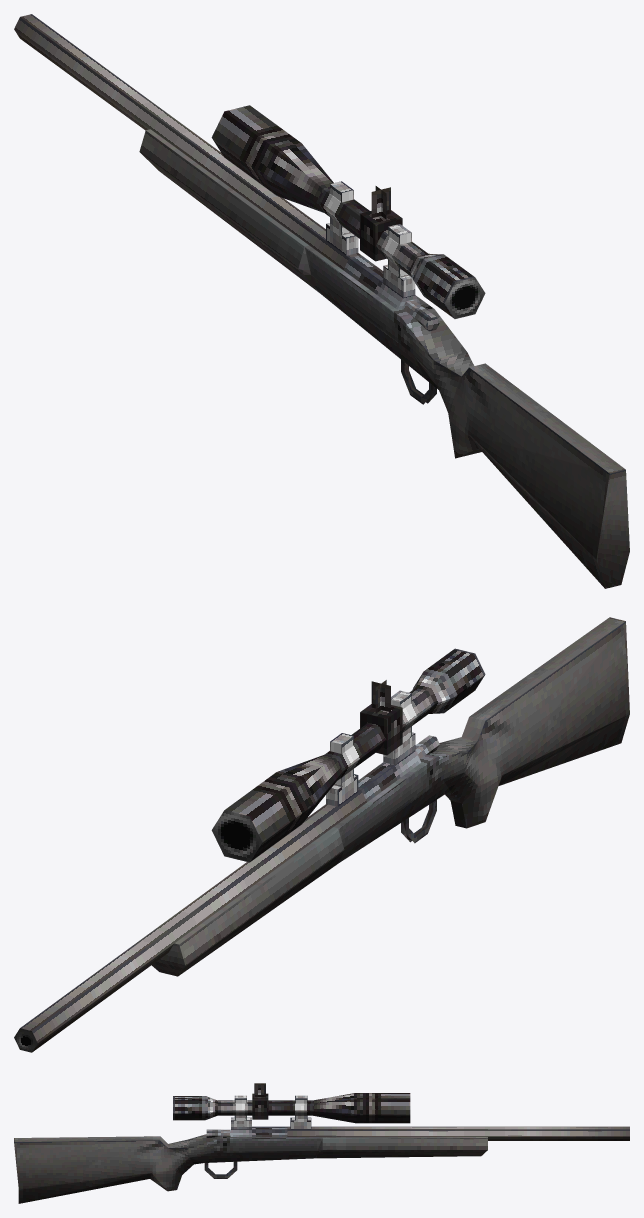
The model's file is recovered_gun_remington700_3255a1c1.glb.
3 renders of one model, top to bottom at view 1: azimuth 30°, elevation 25°; view 2: azimuth 150°, elevation 25°; view 3: azimuth 270°, elevation 25°, orthographic. The views are drawn at different scales.
Parts seen in each view (by area): view 1: Gun_e9eb837dc95a, Gun_379f7b5fa02f; view 2: Gun_e9eb837dc95a, Gun_379f7b5fa02f; view 3: Gun_e9eb837dc95a.
Part boxes in pixels (x1=…): Gun_e9eb837dc95a: x1=14, y1=14, x2=629, y2=588; Gun_379f7b5fa02f: x1=445, y1=277, x2=485, y2=318; Gun_e9eb837dc95a: x1=20, y1=617, x2=629, y2=1052; Gun_379f7b5fa02f: x1=211, y1=810, x2=262, y2=862; Gun_e9eb837dc95a: x1=14, y1=1083, x2=629, y2=1203.
Size of the model in its own units: 0.0564 by 0.2408 by 1.14.
Materials: 3 (3 with a texture image).
